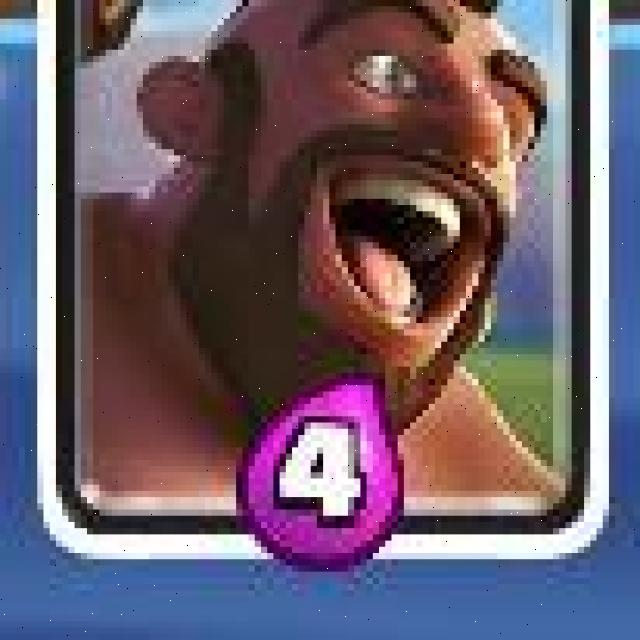Hog_Rider: (32, 0, 611, 562)
